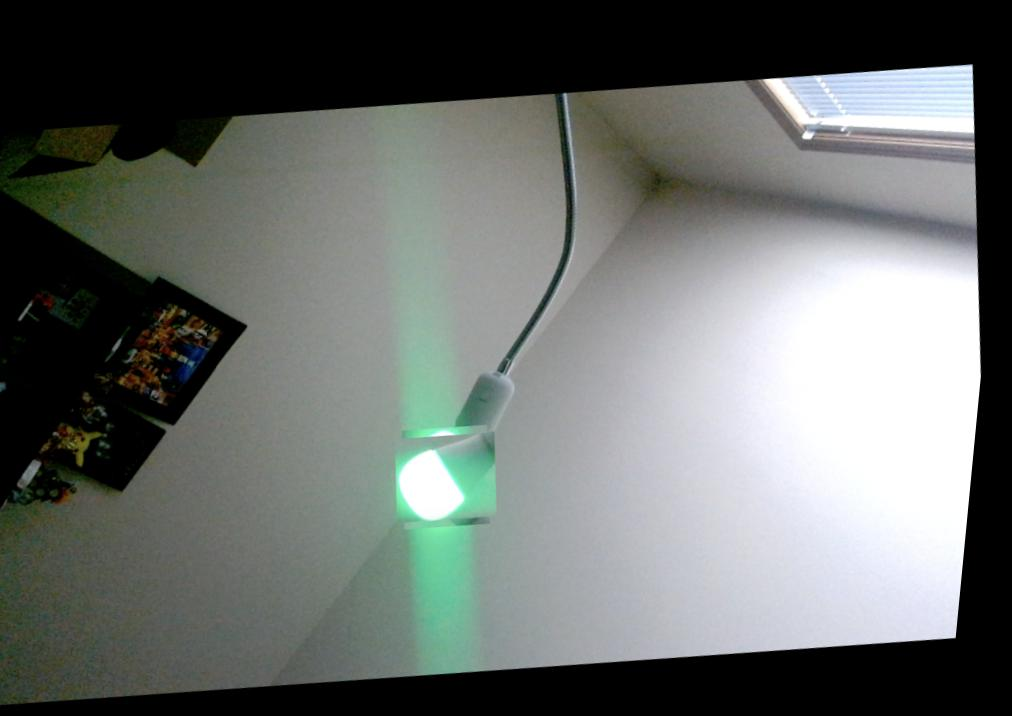TubeLight: (399, 418, 510, 525)
